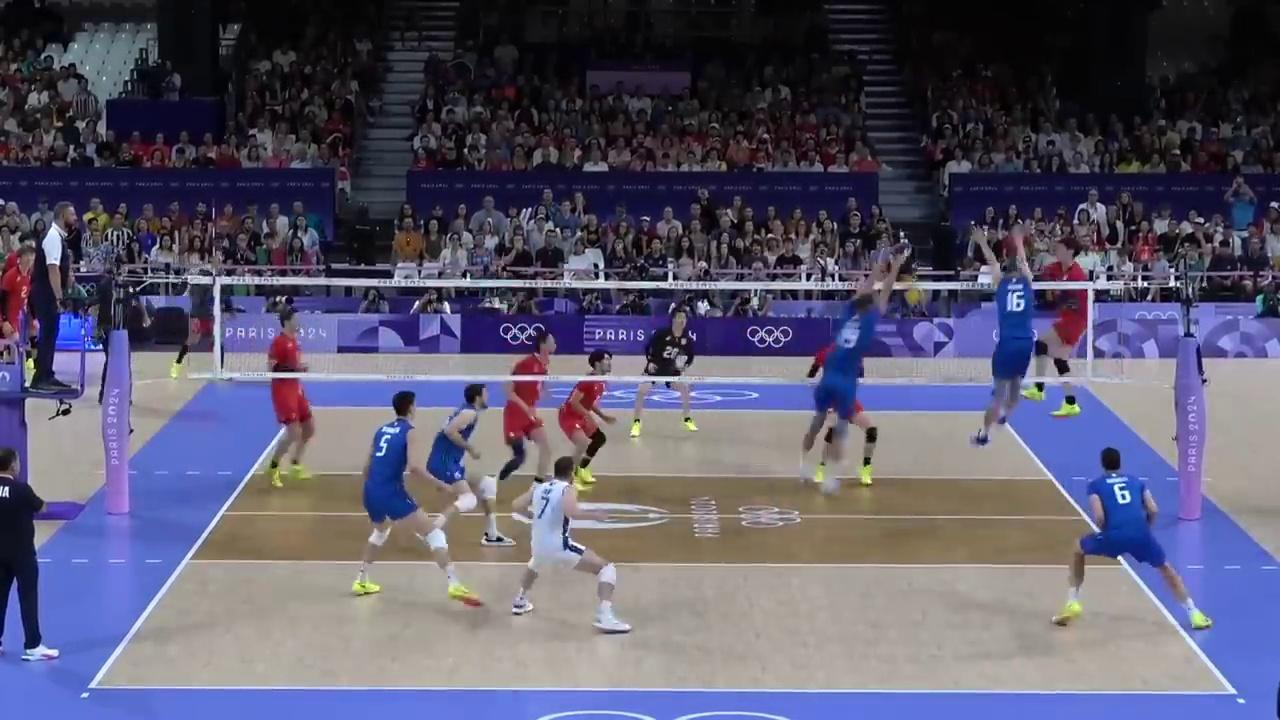ball: (906, 288, 922, 305)
